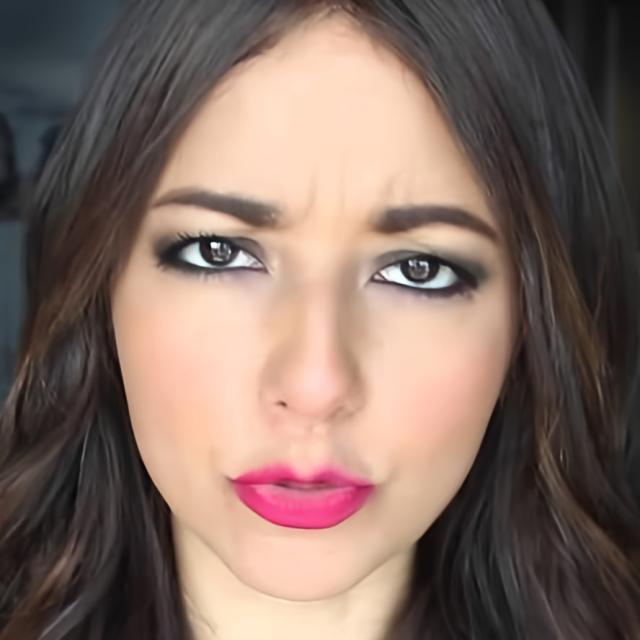anger: (110, 5, 522, 599)
